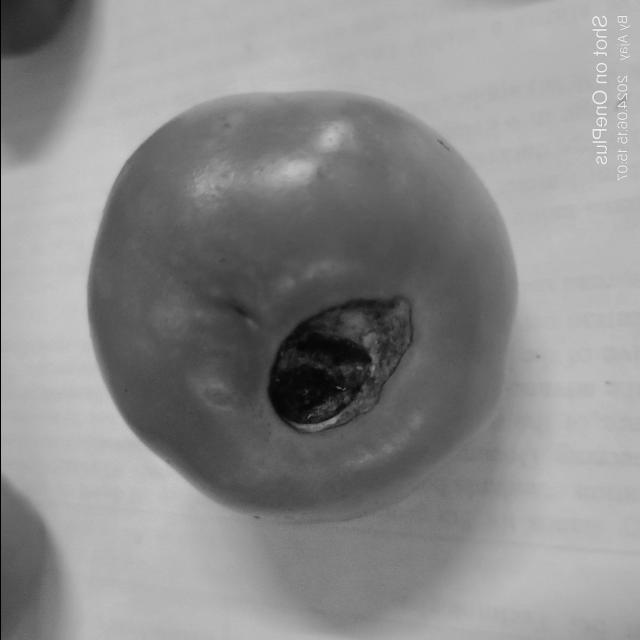fruitworm_bore: (266, 290, 418, 432)
